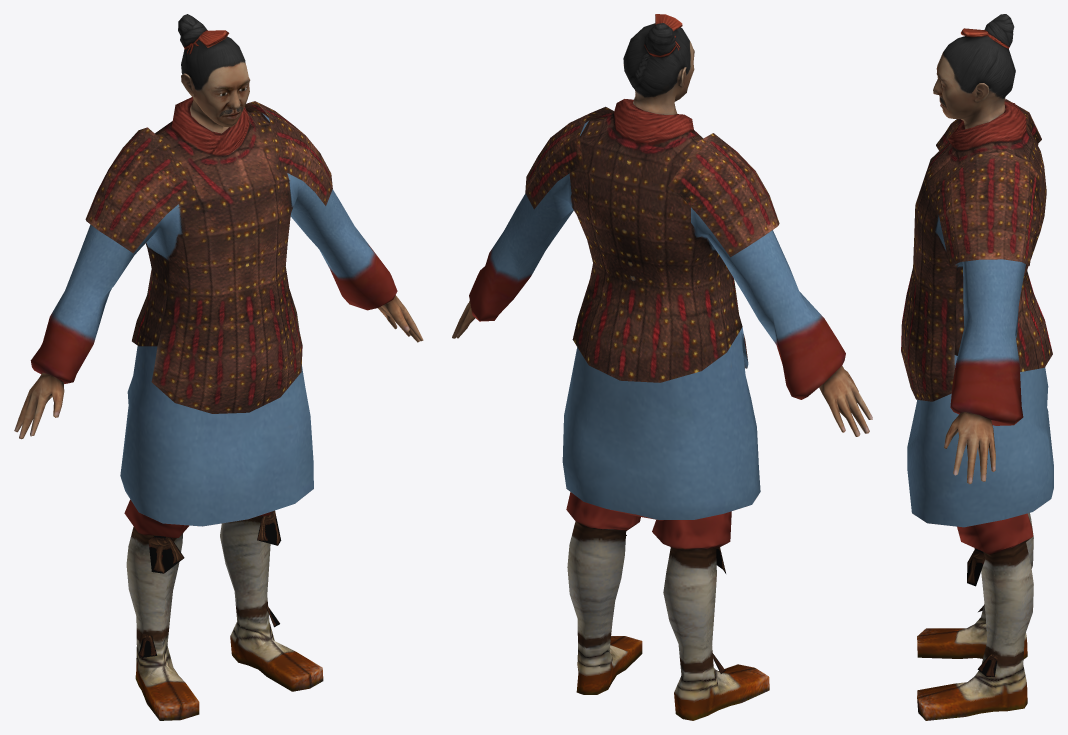
The model's file is soldier.fbx.
3 views of the same model, side by side, from view 1: azimuth 30°, elevation 25°; view 2: azimuth 150°, elevation 25°; view 3: azimuth 270°, elevation 25° (orthographic). The views are drawn at different scales.
Parts seen in each view (by area): view 1: low_no_weapon6; view 2: low_no_weapon6; view 3: low_no_weapon6.
Part boxes in pixels (x1=…): low_no_weapon6: x1=14, y1=14, x2=423, y2=720; low_no_weapon6: x1=452, y1=14, x2=872, y2=720; low_no_weapon6: x1=901, y1=14, x2=1053, y2=720.
Size of the model in its own units: 11803 by 18617 by 3911.
